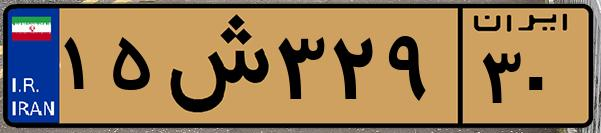0: (525, 38, 570, 115)
1: (57, 26, 110, 100)
2: (330, 28, 385, 110)
3: (270, 28, 330, 110), (475, 38, 525, 113)
5: (110, 28, 158, 98)
9: (385, 28, 445, 110)
ش: (158, 12, 270, 120)
